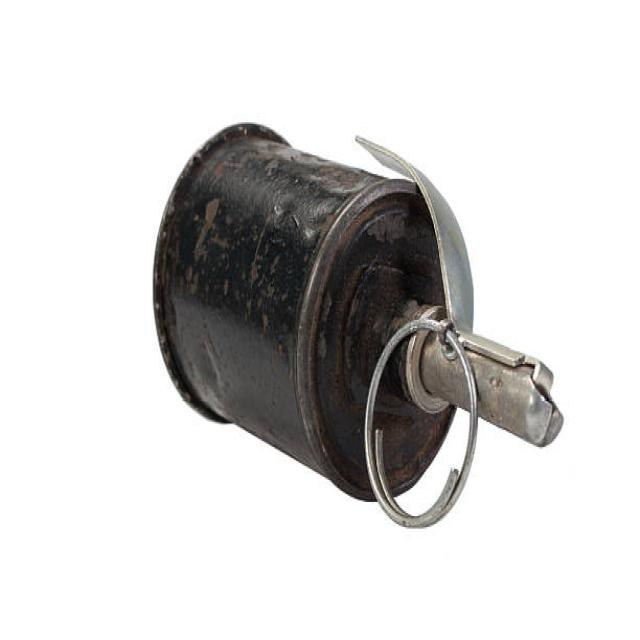grenade: (145, 112, 569, 527)
